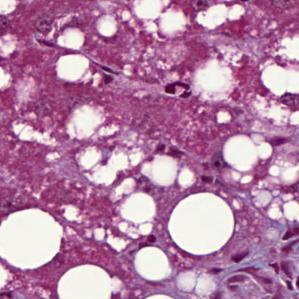ballooning: (185, 54, 239, 106)
